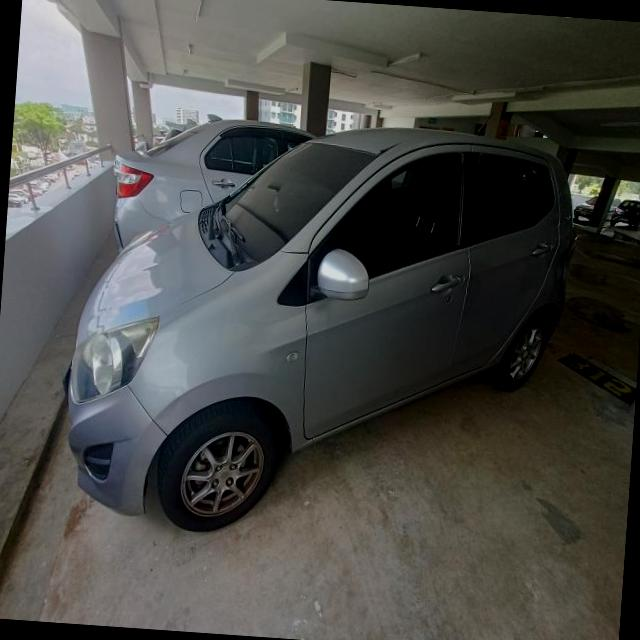PeroduaAxia: (53, 102, 584, 558)
